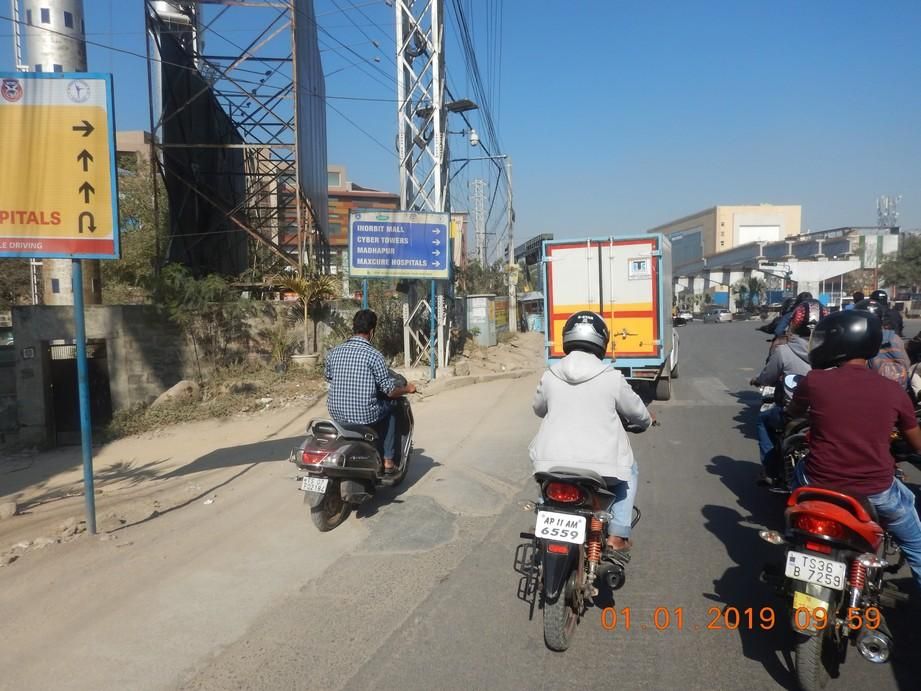plate: (537, 511, 586, 545), (300, 475, 328, 496)
